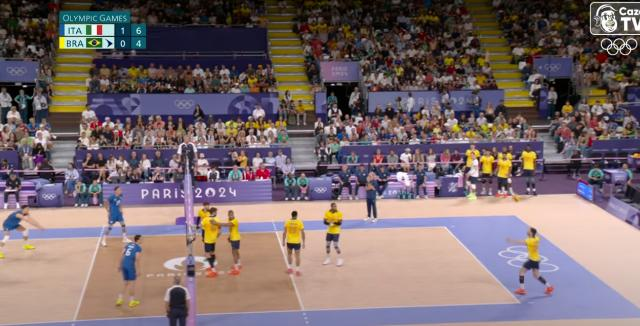Levantador: (114, 235, 146, 307), (195, 200, 212, 226)
bola: (511, 194, 522, 204)
